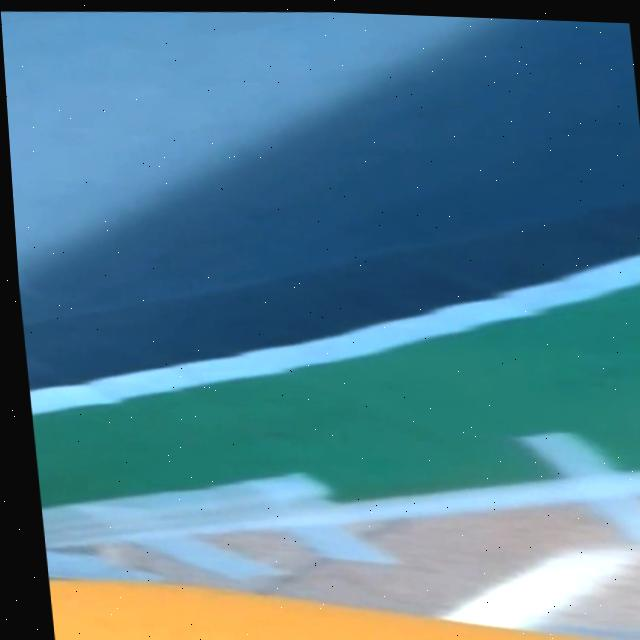right: (28, 254, 640, 414)
